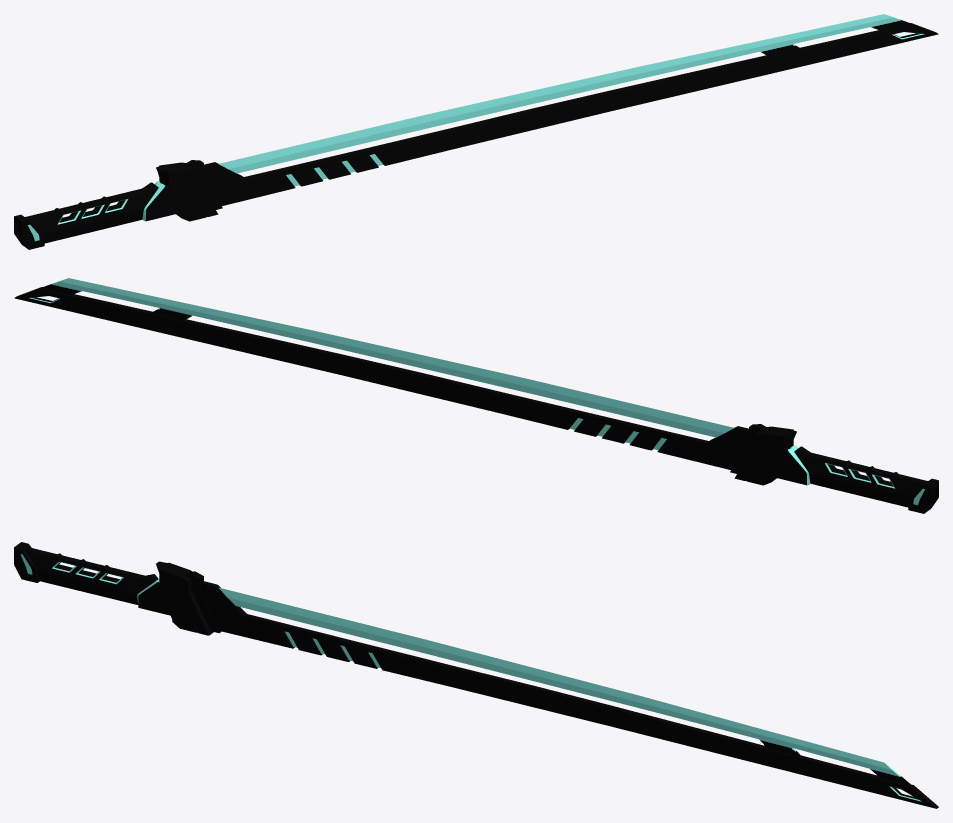
Rendered from Sword.gltf.
3 renders of one model, top to bottom at view 1: azimuth 30°, elevation 25°; view 2: azimuth 150°, elevation 25°; view 3: azimuth 330°, elevation 25°, orthographic.
Visible parts, largest first — view 1: polySurface2, polySurface1, polySurface5, polySurface4; view 2: polySurface2, polySurface1, polySurface5, polySurface4; view 3: polySurface2, polySurface1, polySurface5, polySurface4.
Part boxes in pixels (x1,y1,x2,y2): polySurface2: (204, 23, 938, 205); polySurface1: (219, 14, 911, 173); polySurface5: (14, 181, 179, 249); polySurface4: (156, 160, 222, 221); polySurface2: (14, 287, 748, 469); polySurface1: (41, 278, 733, 437); polySurface5: (773, 445, 938, 513); polySurface4: (730, 424, 796, 485); polySurface2: (201, 581, 938, 808); polySurface1: (219, 587, 912, 786); polySurface5: (14, 542, 170, 615); polySurface4: (156, 561, 221, 635).
Size of the model in its own units: 1.5 by 0.0872 by 0.0271.
2 materials, 2 textured.
